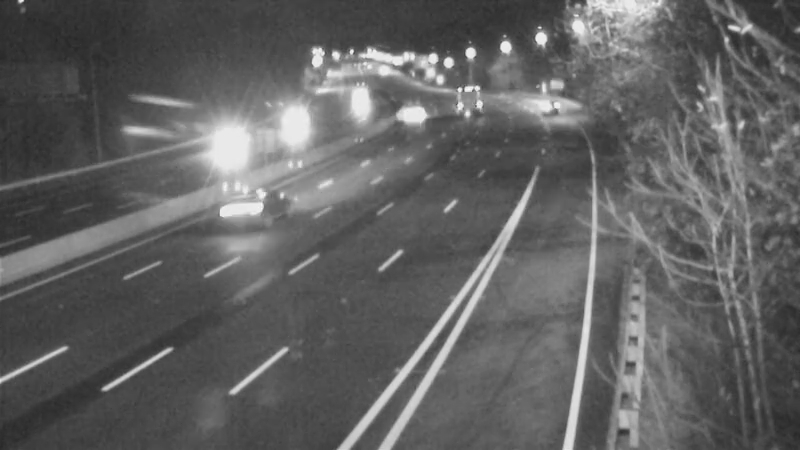vehicle: (197, 168, 277, 248), (520, 77, 570, 127), (440, 74, 490, 124), (379, 90, 429, 140), (204, 121, 254, 171), (270, 108, 320, 158), (337, 75, 387, 125)
